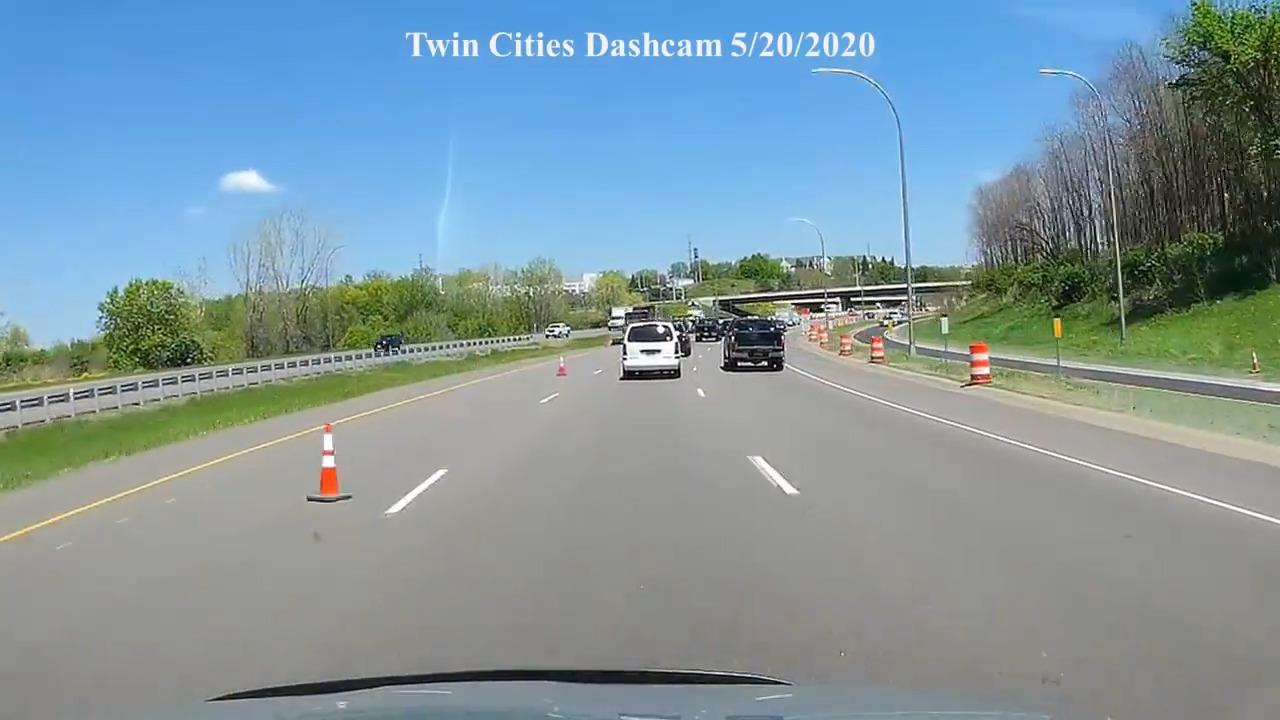car: (618, 320, 682, 380), (721, 318, 786, 372), (373, 334, 404, 355), (543, 323, 571, 341)
traffic cone: (306, 422, 352, 504), (962, 341, 993, 388), (869, 335, 886, 364), (554, 355, 569, 378)
